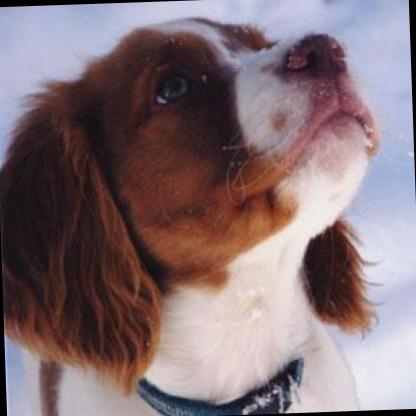Brittany_spaniel: (0, 7, 389, 416)
